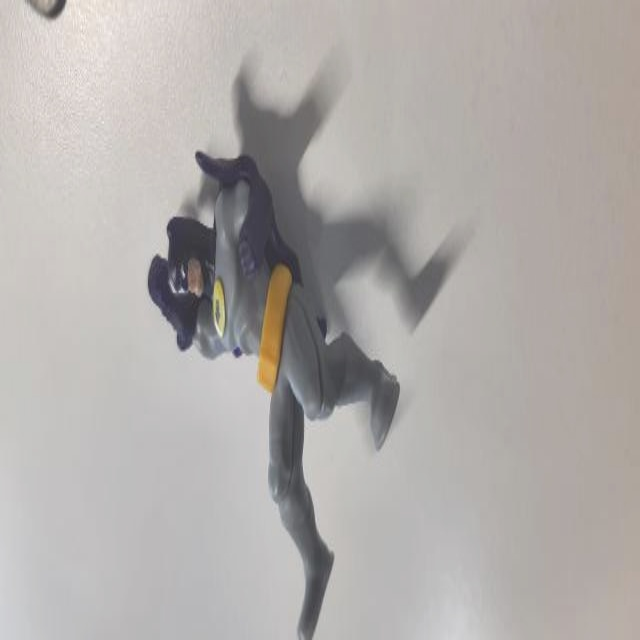Batman: (142, 103, 398, 639)
